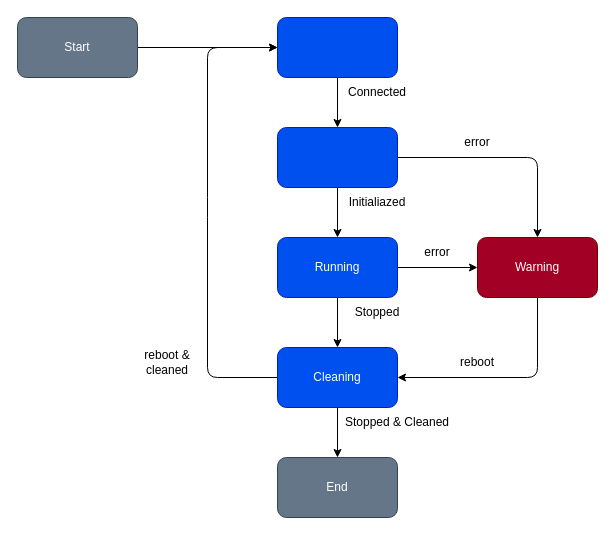
The diagram is 615 pixels wide and 535 high, and some of its shapes have lost their labels. Here are the shapes that lost their labels. From the top down, the centre of each, then its label:
At [337,47]: "Connecting".
At [337,157]: "Initializing".
